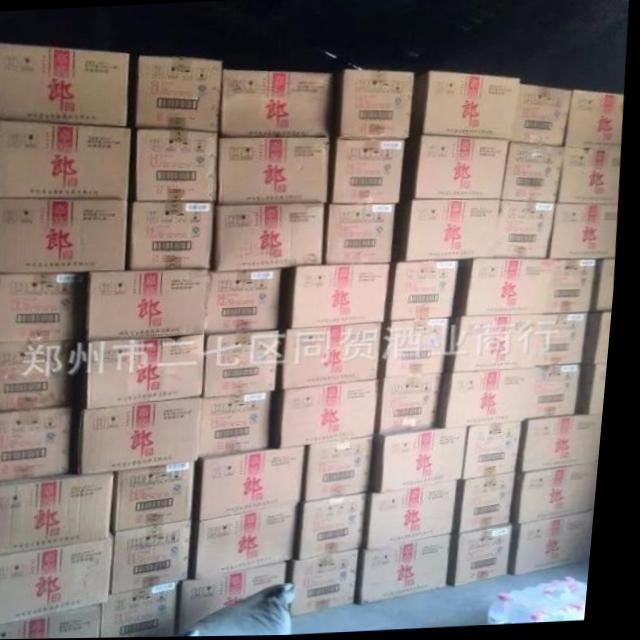box: (0, 536, 123, 626), (0, 42, 130, 126), (0, 119, 133, 200), (0, 471, 121, 556), (0, 199, 130, 272), (90, 397, 206, 474), (94, 334, 210, 408), (93, 270, 212, 340), (208, 446, 314, 521), (206, 503, 308, 580), (223, 69, 333, 137), (220, 204, 327, 273), (222, 138, 331, 205), (191, 563, 295, 632), (287, 380, 385, 449), (424, 72, 522, 140), (137, 55, 223, 132), (289, 323, 387, 390), (381, 427, 476, 494), (298, 264, 394, 329), (377, 481, 467, 550), (418, 135, 511, 201), (373, 535, 459, 606), (0, 406, 79, 483), (138, 128, 221, 201), (121, 521, 201, 596), (411, 200, 505, 263), (0, 272, 82, 341), (124, 462, 204, 532), (135, 202, 218, 269), (0, 339, 78, 410), (452, 369, 544, 429), (341, 70, 415, 140), (459, 316, 547, 374), (210, 331, 286, 398), (525, 512, 604, 576), (528, 463, 607, 526), (470, 260, 554, 317), (213, 268, 285, 333), (208, 392, 280, 457), (302, 550, 370, 618), (336, 140, 406, 205), (308, 493, 375, 560), (532, 416, 610, 473), (314, 437, 382, 502), (112, 582, 188, 638), (331, 204, 399, 265), (396, 260, 462, 322), (514, 85, 573, 148), (0, 606, 112, 639), (505, 143, 565, 204), (393, 319, 455, 378), (387, 374, 449, 433), (554, 205, 620, 260), (499, 202, 560, 260), (470, 423, 529, 482), (561, 148, 622, 205), (465, 525, 521, 587), (468, 473, 524, 534), (566, 92, 625, 148), (547, 261, 599, 316), (543, 315, 593, 367), (539, 366, 587, 420), (600, 259, 620, 313), (595, 367, 614, 415), (601, 313, 617, 365)
